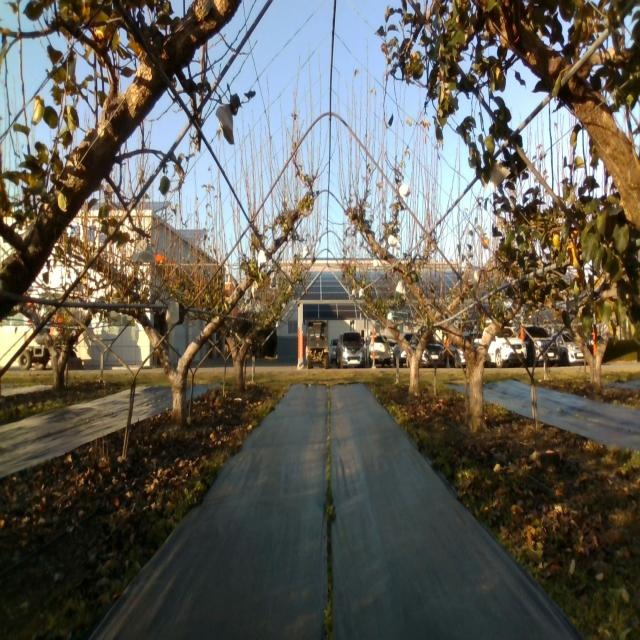pearbags: (215, 104, 235, 145), (130, 238, 154, 264), (490, 161, 511, 189), (470, 265, 481, 293)
